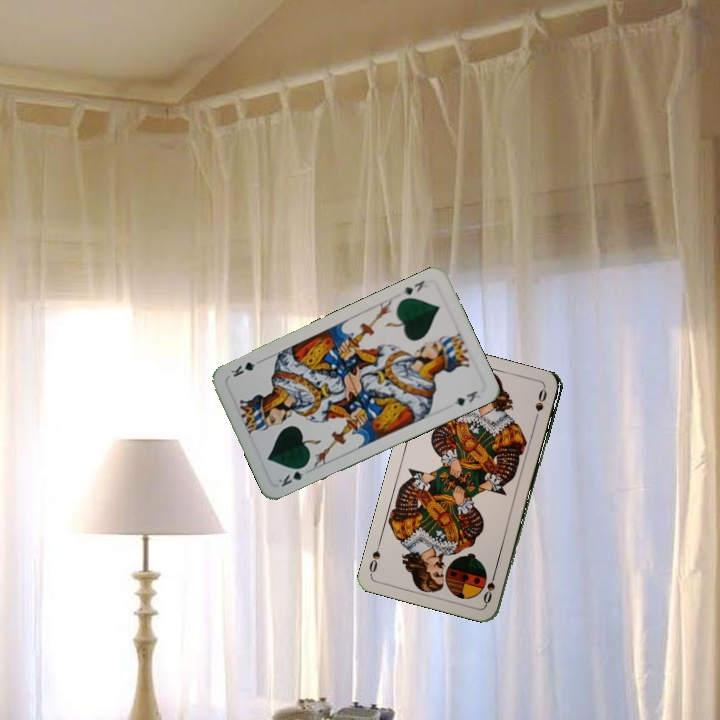GK: (274, 461, 310, 490), (398, 276, 427, 298)
SO: (479, 567, 499, 607)
